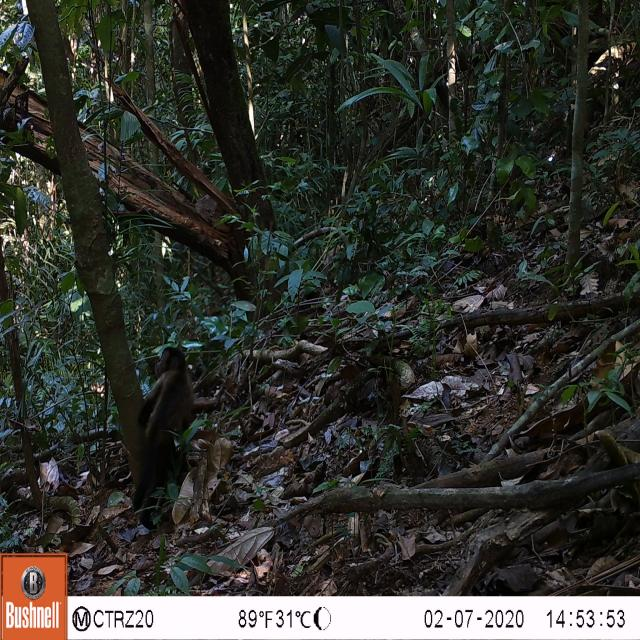Margarita Island Capuchin: (120, 336, 201, 540)
